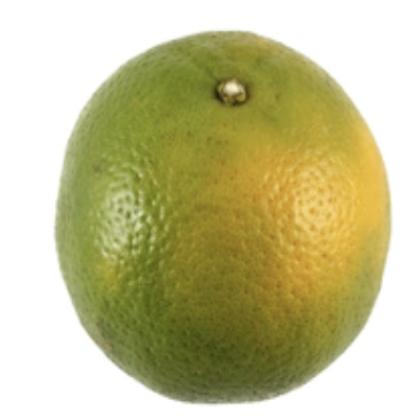fresh: (58, 29, 394, 402)
